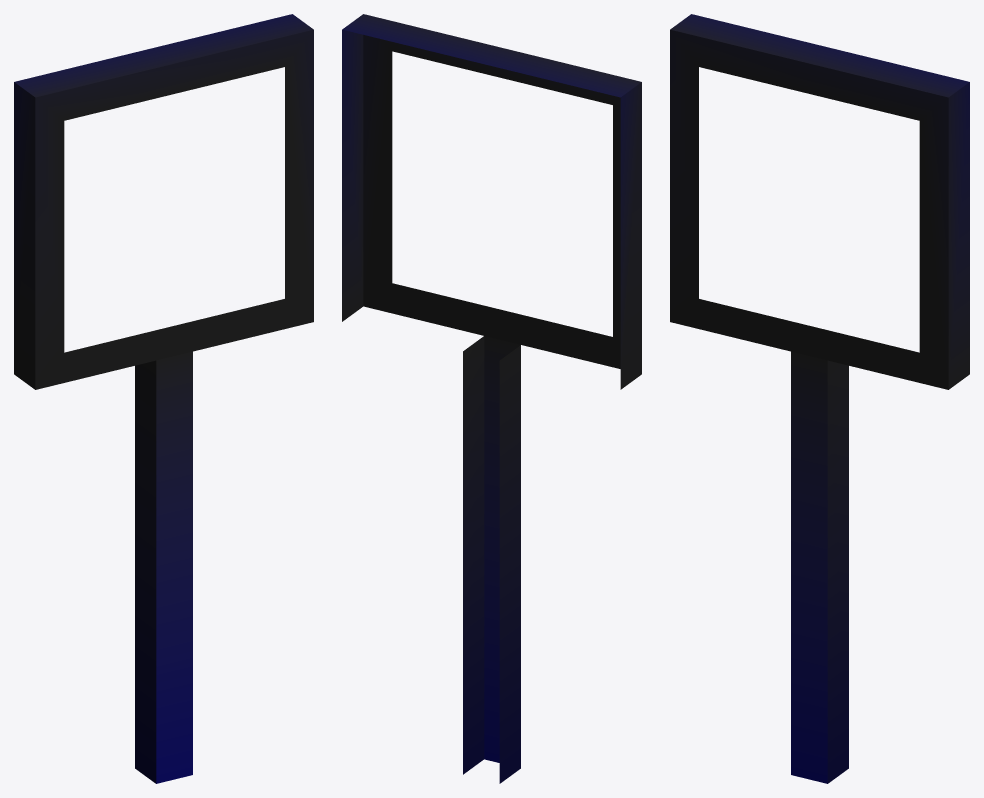
File: treadmill_counter.obj
The picture shows the model from 3 angles, left to right: view 1: azimuth 30°, elevation 25°; view 2: azimuth 150°, elevation 25°; view 3: azimuth 330°, elevation 25°; orthographic projection.
Visible parts, largest first — view 1: Cube.002; view 2: Cube.002; view 3: Cube.002.
Part boxes in pixels (x1,y1,x2,y2): Cube.002: (14,14,313,783); Cube.002: (342,14,641,783); Cube.002: (670,14,969,783).
Size of the model in its own units: 1.28 by 3.15 by 0.1699.
